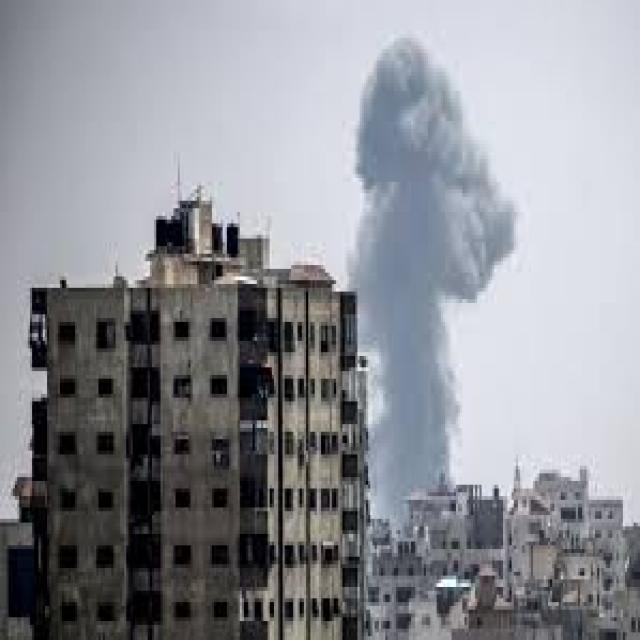Smoke: (343, 27, 525, 518)
